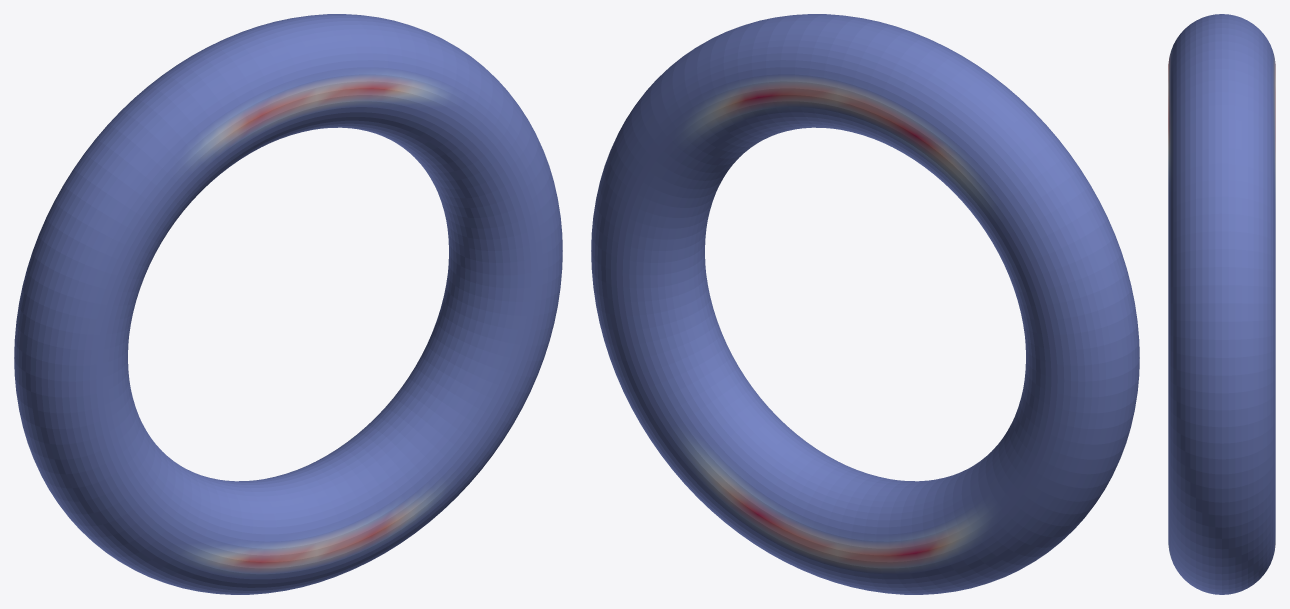
3 views of the same model, side by side, from view 1: azimuth 30°, elevation 25°; view 2: azimuth 150°, elevation 25°; view 3: azimuth 270°, elevation 25° (orthographic). The views are drawn at different scales.
Visible parts, largest first — view 1: world; view 2: world; view 3: world.
Boxes of the visible parts, bbox=[...] form: world: bbox=[14, 14, 562, 594]; world: bbox=[591, 14, 1139, 594]; world: bbox=[1168, 14, 1275, 594].
Bounding box in the file's own units: 12.27 × 12.27 × 2.26.
